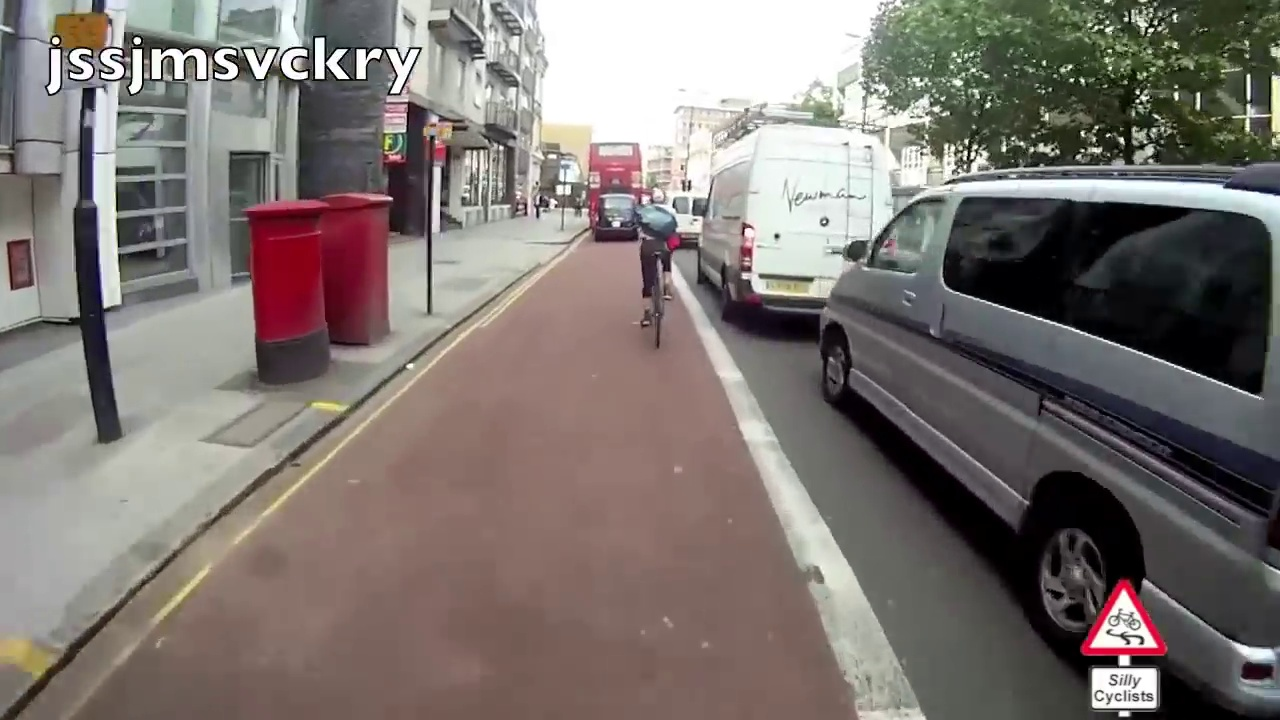cyclist_back: (632, 183, 681, 353)
